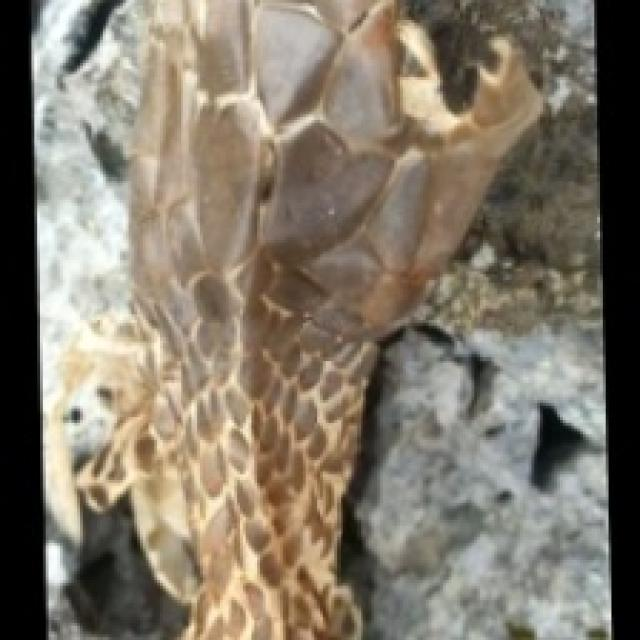philippine cobra: (34, 0, 540, 637)
